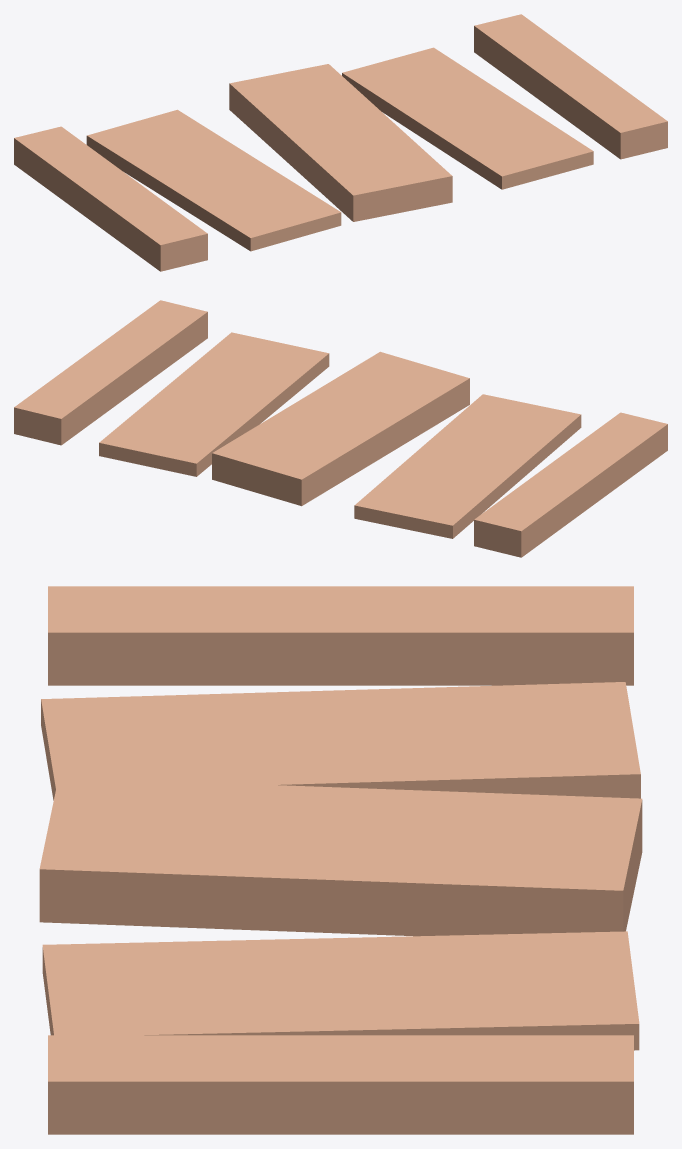
The model's file is path_wood.glb.
3 renders of one model, top to bottom at view 1: azimuth 30°, elevation 25°; view 2: azimuth 150°, elevation 25°; view 3: azimuth 270°, elevation 25°, orthographic. The views are drawn at different scales.
Visible parts, largest first — view 1: path_wood; view 2: path_wood; view 3: path_wood.
Boxes of the visible parts, x1=… form: path_wood: x1=14, y1=14, x2=667, y2=271; path_wood: x1=14, y1=300, x2=667, y2=557; path_wood: x1=39, y1=586, x2=642, y2=1134.
Bounding box in the file's own units: 1 × 0.05 × 0.5144.
